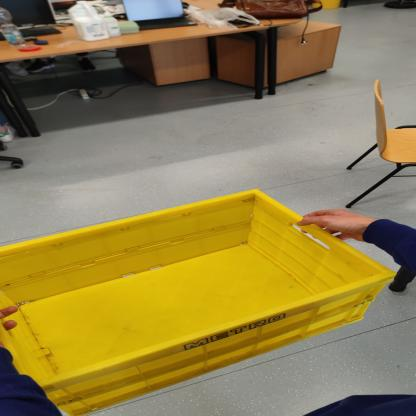box: (0, 181, 396, 416)
